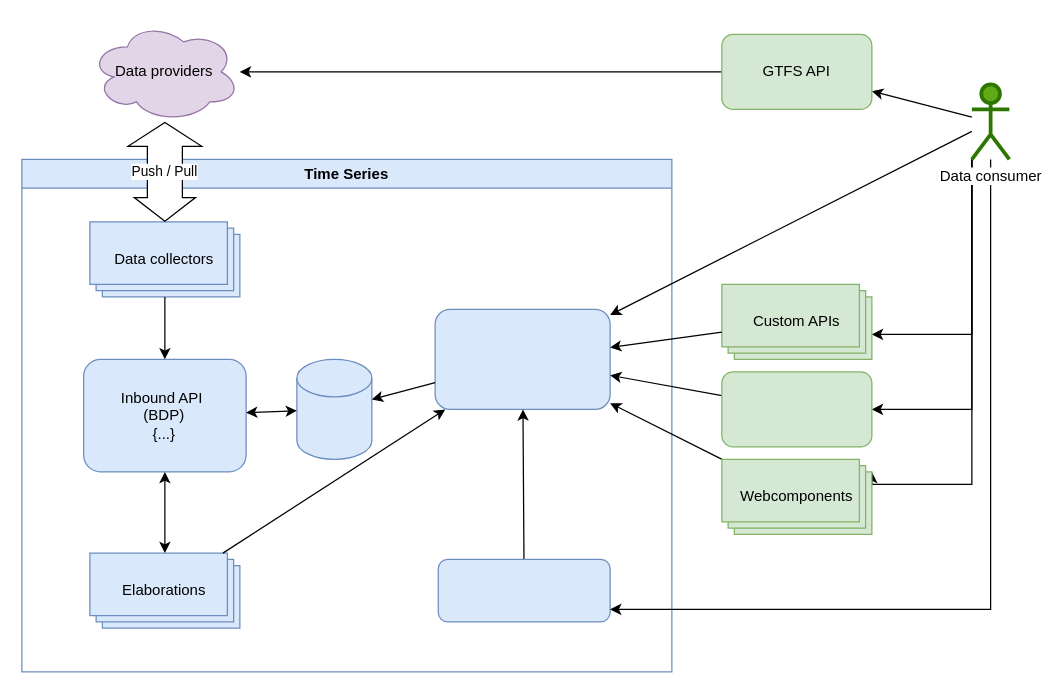
Image size: 1063x694. Some labels were removed from this diagram. Each missing label, with the centre of its shape:
"Analytics (frontend)" goes at point (523, 590).
"Data browser" goes at point (796, 409).
"Outbound API (Ninja) {...}" goes at point (522, 358).
"Postgis DB" goes at point (334, 408).
